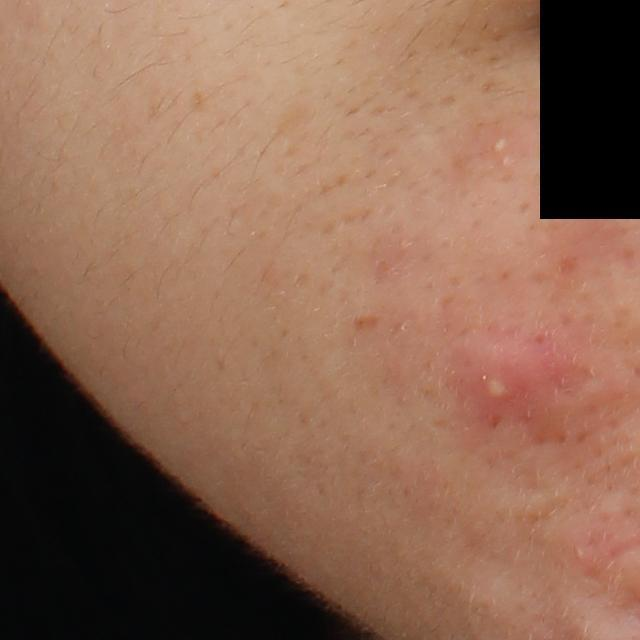atrophic_scar: (346, 311, 381, 334)
pustule: (442, 328, 568, 428), (480, 129, 515, 157)
